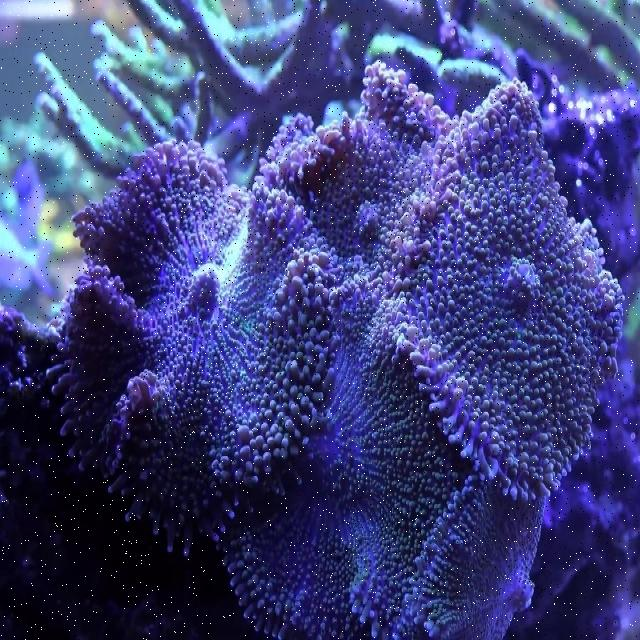reefs: (1, 58, 624, 639), (35, 1, 639, 311)
